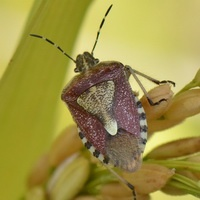insect: (26, 126, 173, 199), (64, 52, 145, 170)
